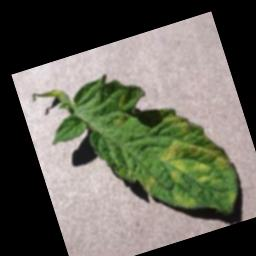Leaf_Mold: (146, 98, 246, 228), (137, 173, 159, 197)
